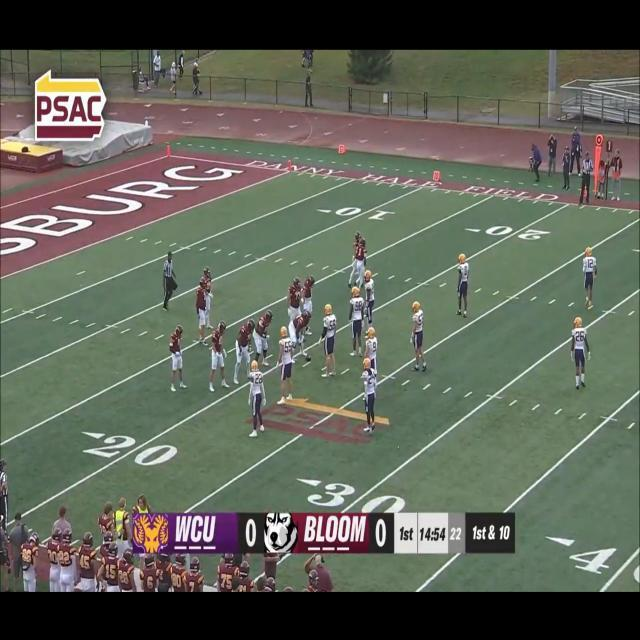football: (304, 354, 312, 364)
